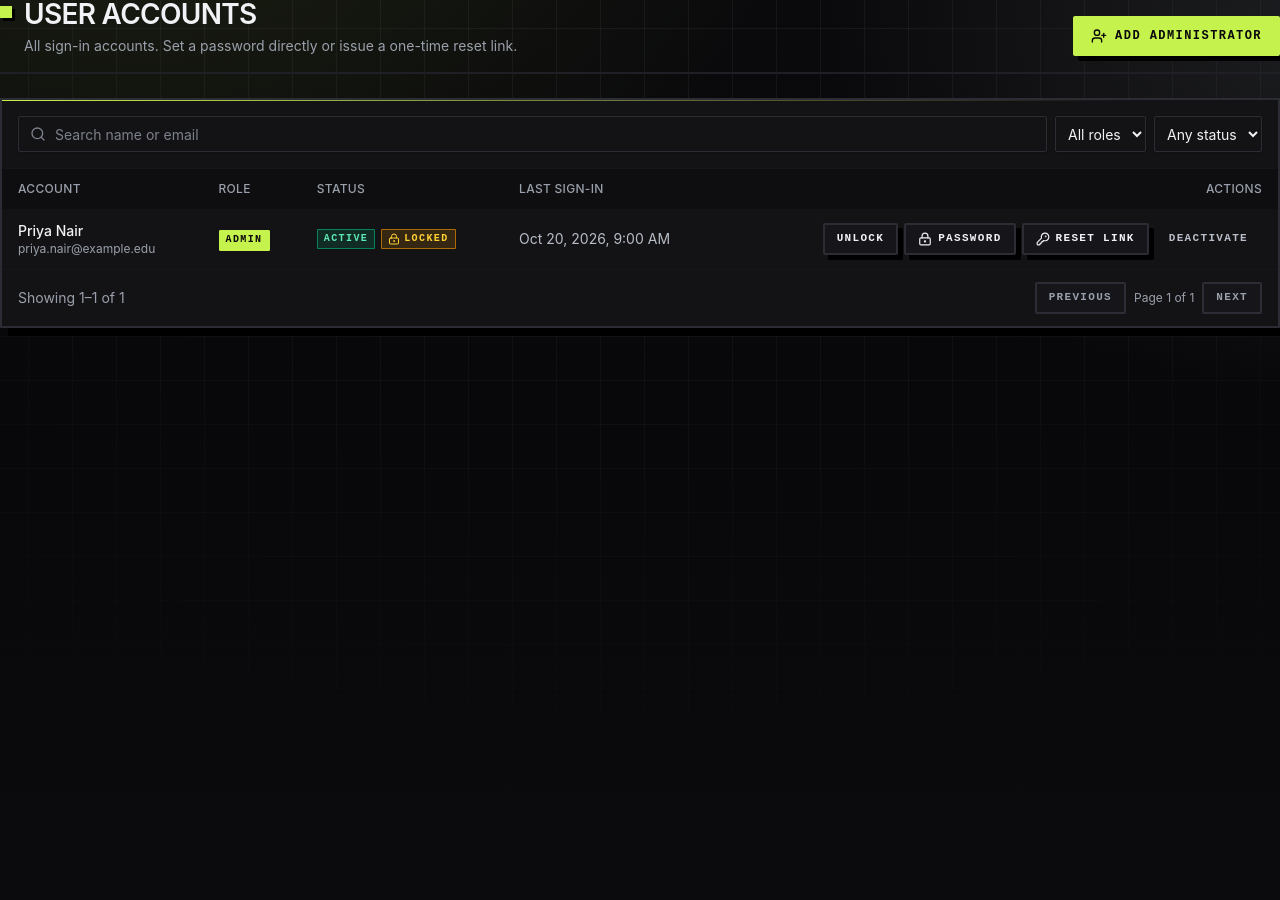
Scenario: admin user console › shows locked accounts and issues a one-time reset link
The width and height of the screenshot is (1280, 900).
Expected: the text "Priya Nair" is shown, [18,222,83,239]
Expected: the text "Locked" is shown, [381,229,456,249]
Click the button "Reset link".
click(1085, 239)  # box [1022,223,1149,255]
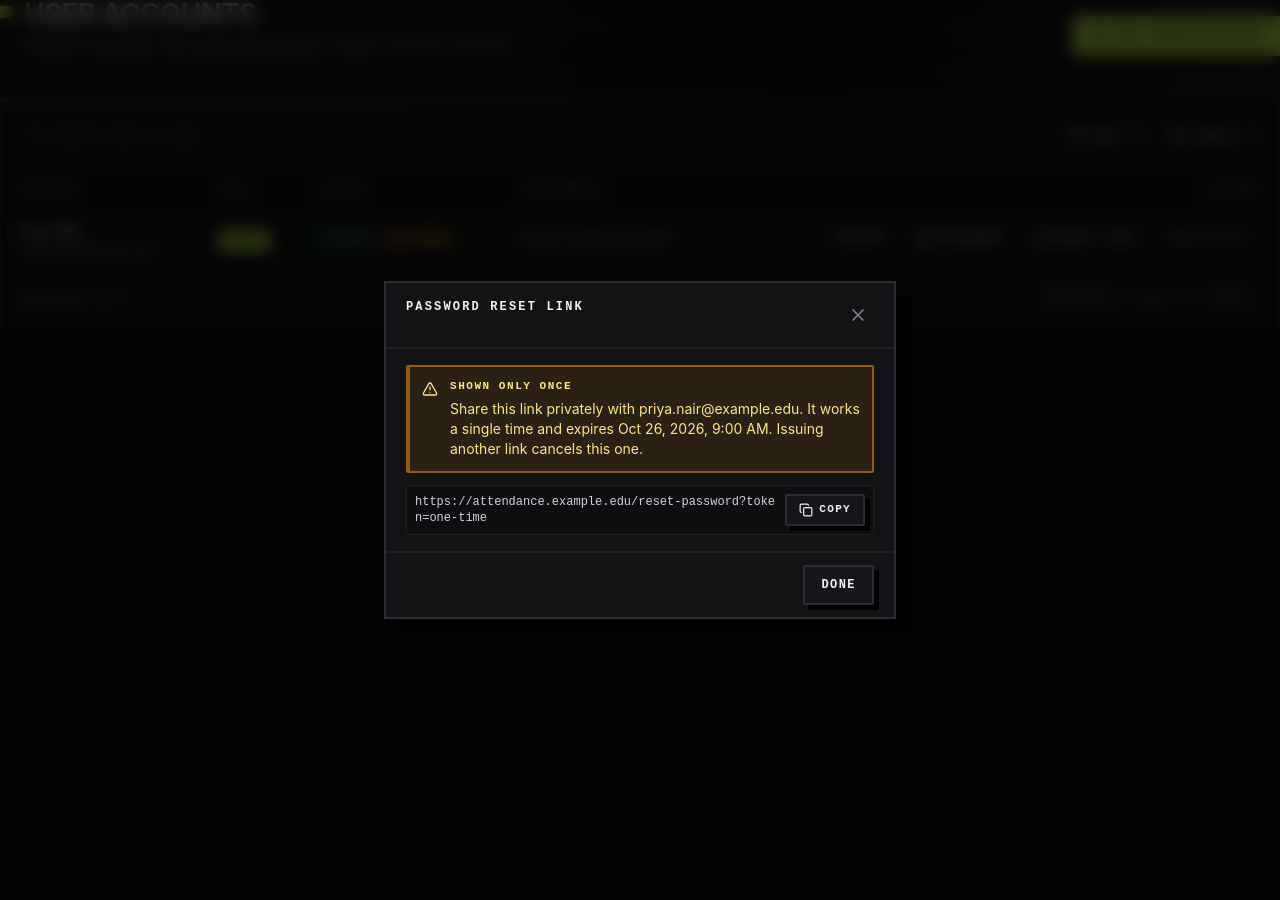
Expected: the text "https://attendance.example.edu/reset-password?token=one-time" is shown, [415,494,777,526]
Expected: the text "works a single time" is shown, [450,400,860,437]
